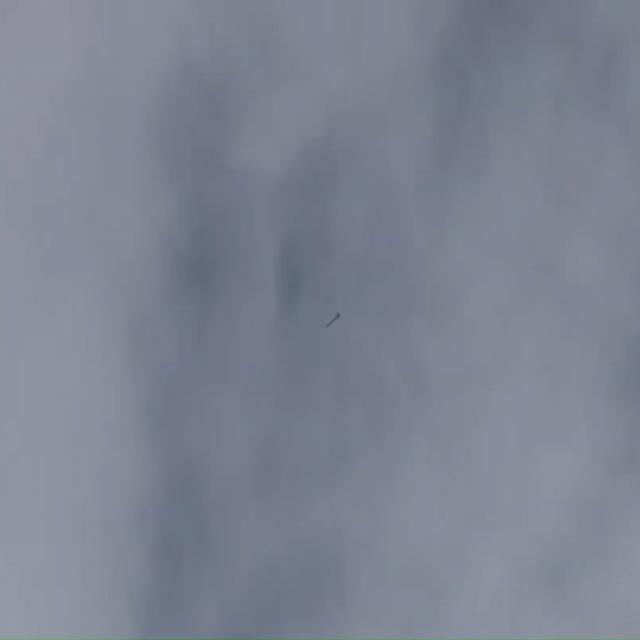Rocket: (326, 312, 340, 328)
